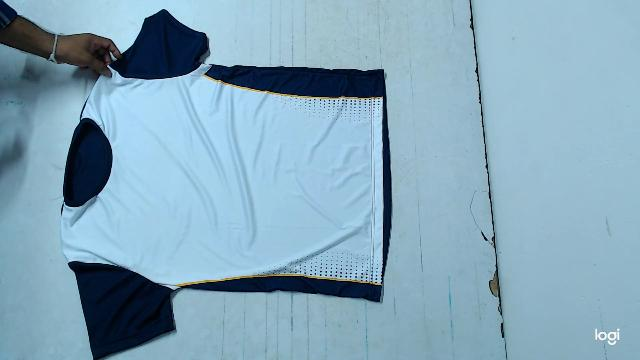new-garment: (60, 11, 390, 356)
